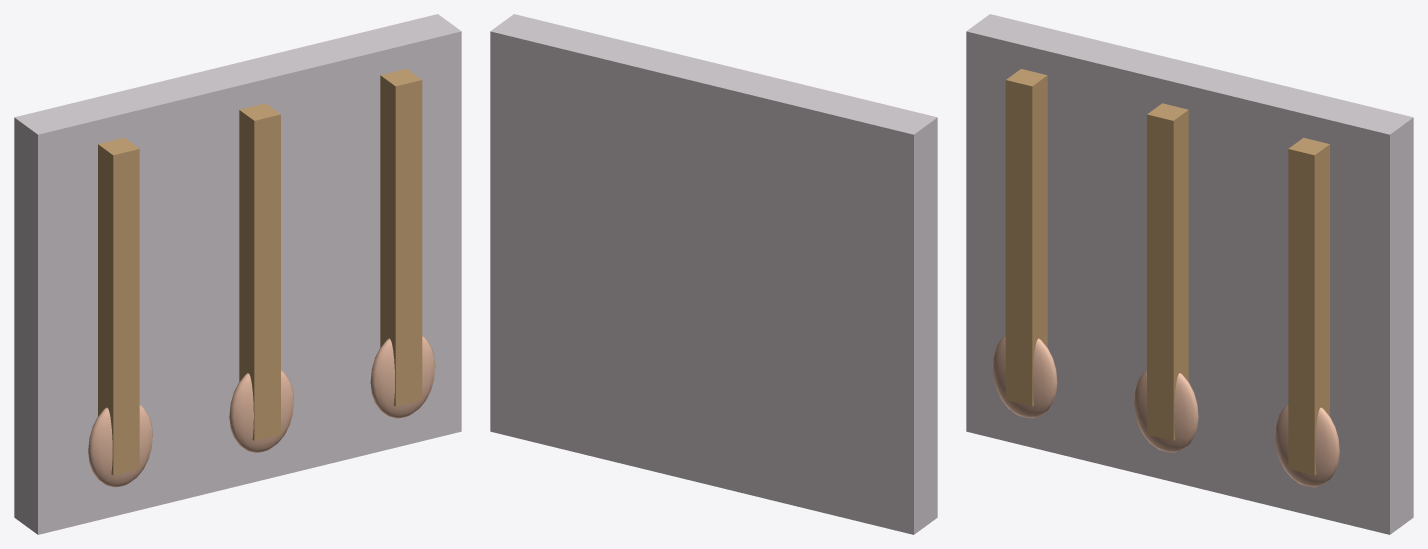
File: TRD-01-03.glb
The picture shows the model from 3 angles, left to right: view 1: azimuth 30°, elevation 25°; view 2: azimuth 150°, elevation 25°; view 3: azimuth 330°, elevation 25°; orthographic projection.
Parts seen in each view (by area): view 1: TRD-01-03; view 2: TRD-01-03; view 3: TRD-01-03.
Boxes of the visible parts, x1=… form: TRD-01-03: x1=14, y1=14, x2=461, y2=534; TRD-01-03: x1=490, y1=14, x2=937, y2=534; TRD-01-03: x1=966, y1=14, x2=1413, y2=534.
Bounding box in the file's own units: 0.72 × 0.65 × 0.1225.
